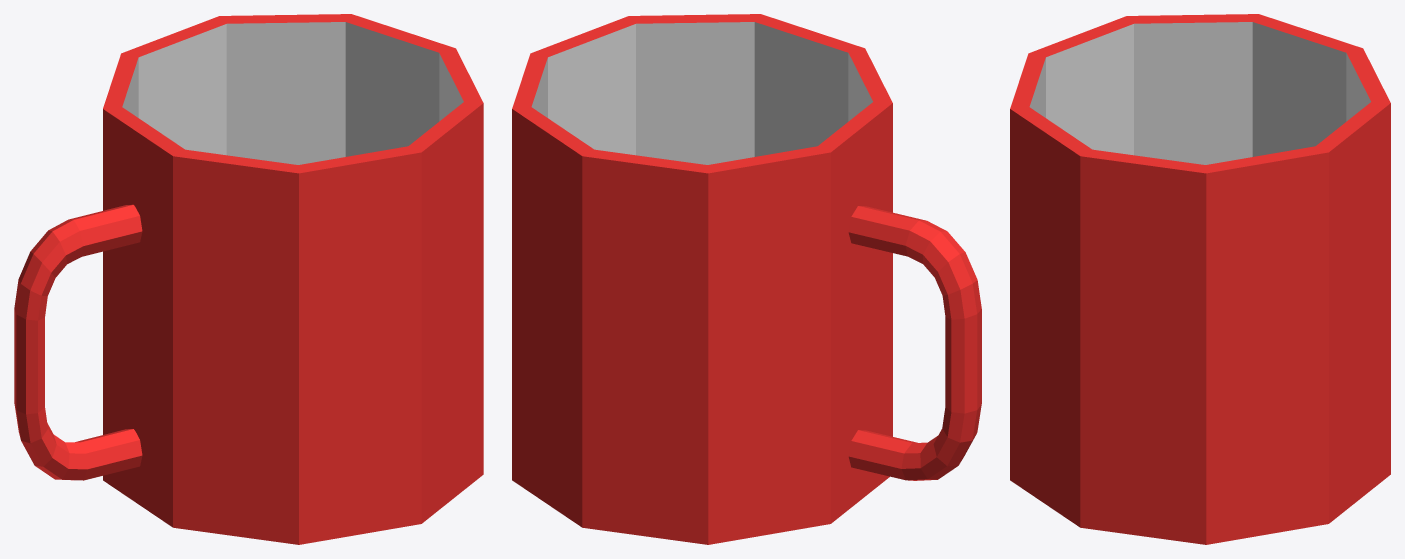
Rendered from mug_handle.fbx.
3 views of the same model, side by side, from view 1: azimuth 30°, elevation 25°; view 2: azimuth 150°, elevation 25°; view 3: azimuth 270°, elevation 25° (orthographic).
Visible parts, largest first — view 1: mug_handle_export; view 2: mug_handle_export; view 3: mug_handle_export.
Boxes of the visible parts, x1,y1,x2,y2 form: mug_handle_export: [14, 14, 483, 544]; mug_handle_export: [512, 14, 981, 544]; mug_handle_export: [1010, 14, 1390, 544].
Bounding box in the file's own units: 27.95 × 22.39 × 20.79.
